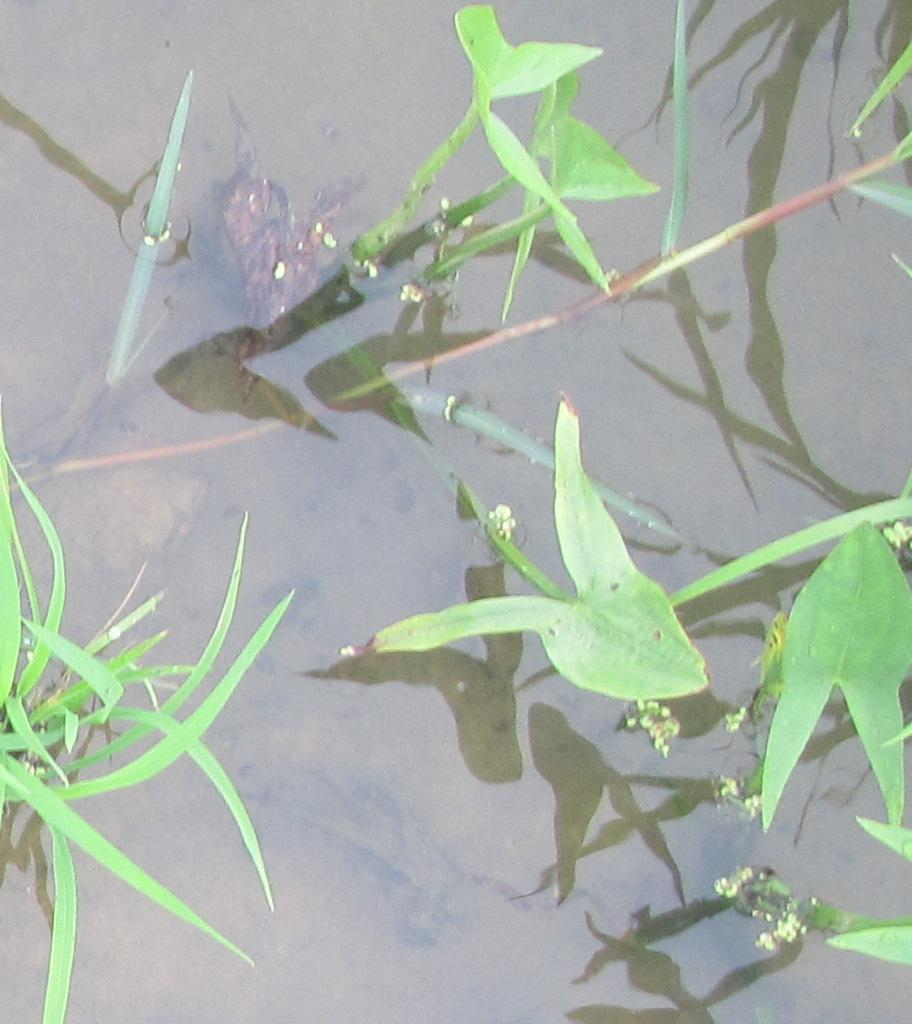Weed: (403, 2, 667, 308), (496, 402, 721, 716), (766, 517, 903, 846)
